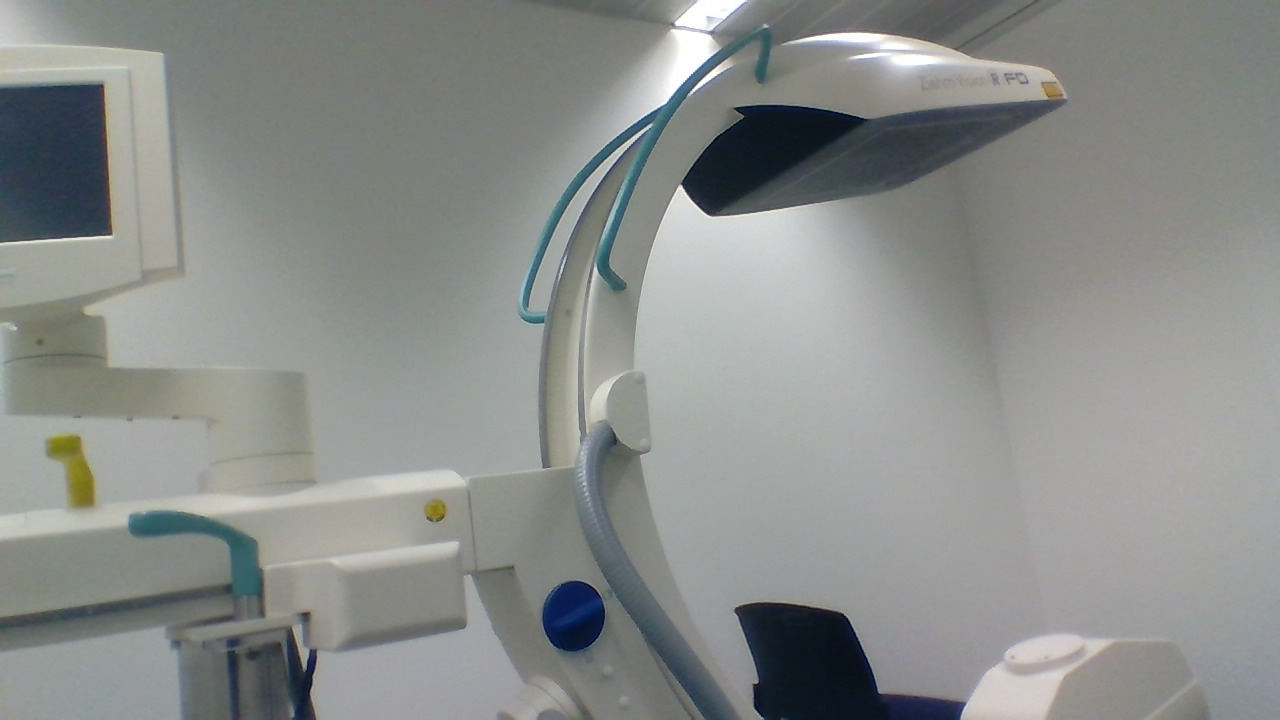carmLOCK: (541, 578, 606, 652)
carmUP: (675, 29, 1071, 218)
